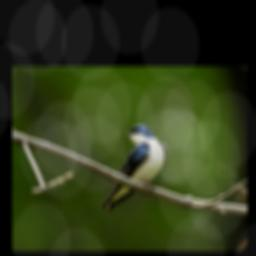Swallow: (100, 124, 169, 212)
